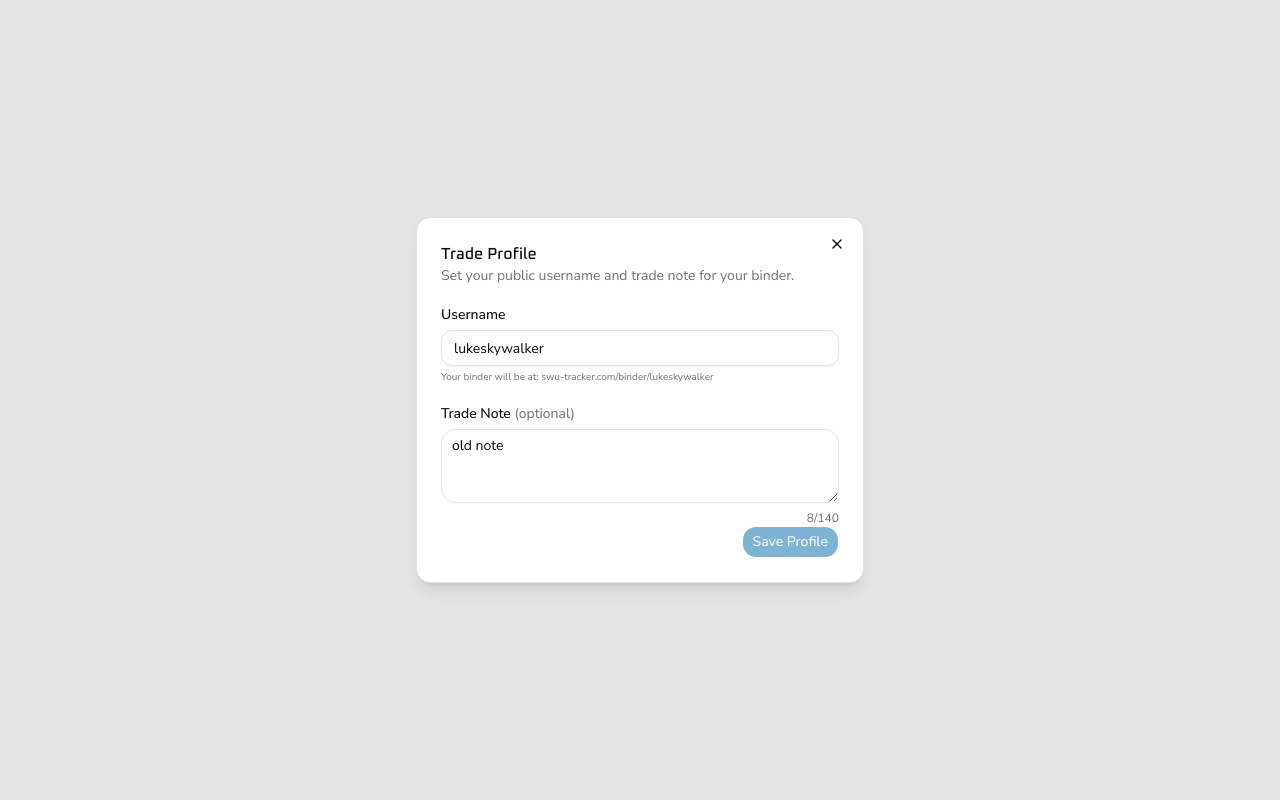
Test: Save is disabled when neither field has changed from its seeded value
expect the button "Save Profile" is disabled: met, box [742,526,839,558]
Replace the text in the text box showing "old note" with "new note" at (640, 466), box [441,429,839,503]
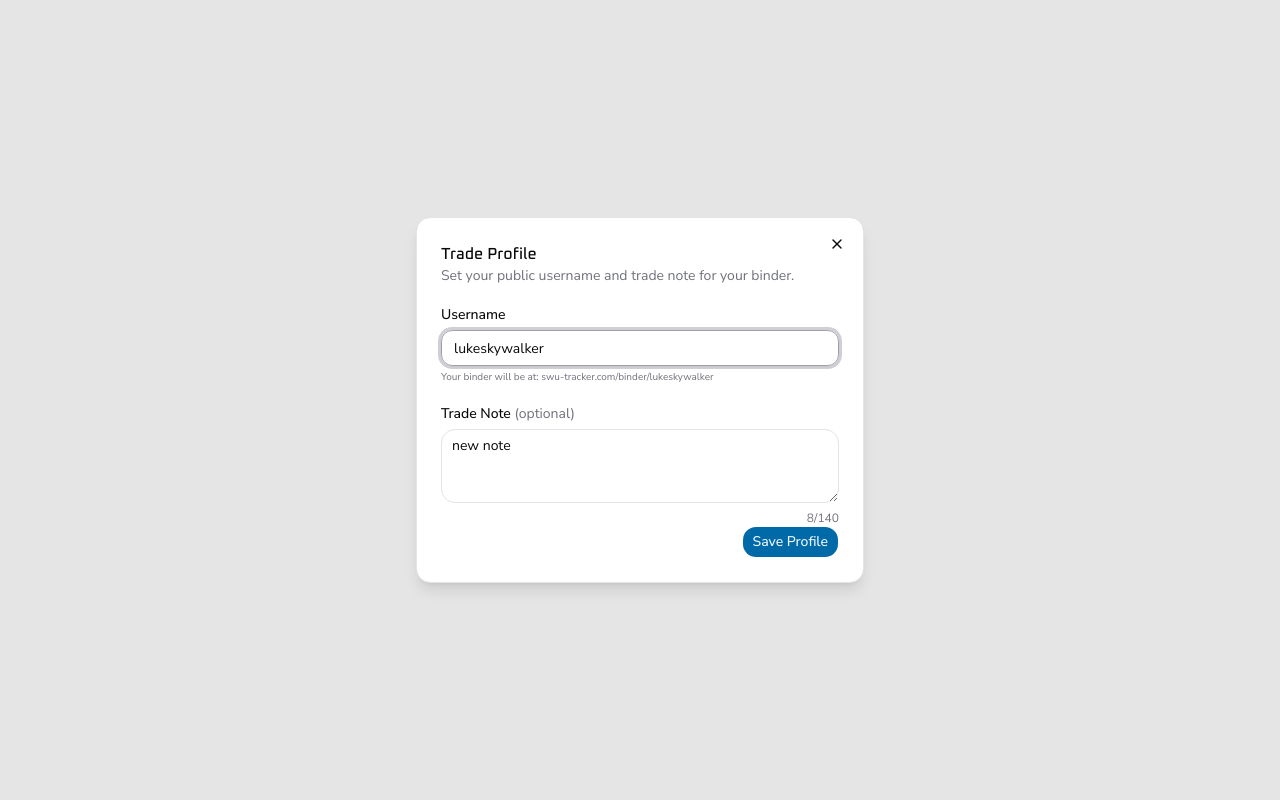
expect the button "Save Profile" is enabled: met, box [742,526,839,558]
